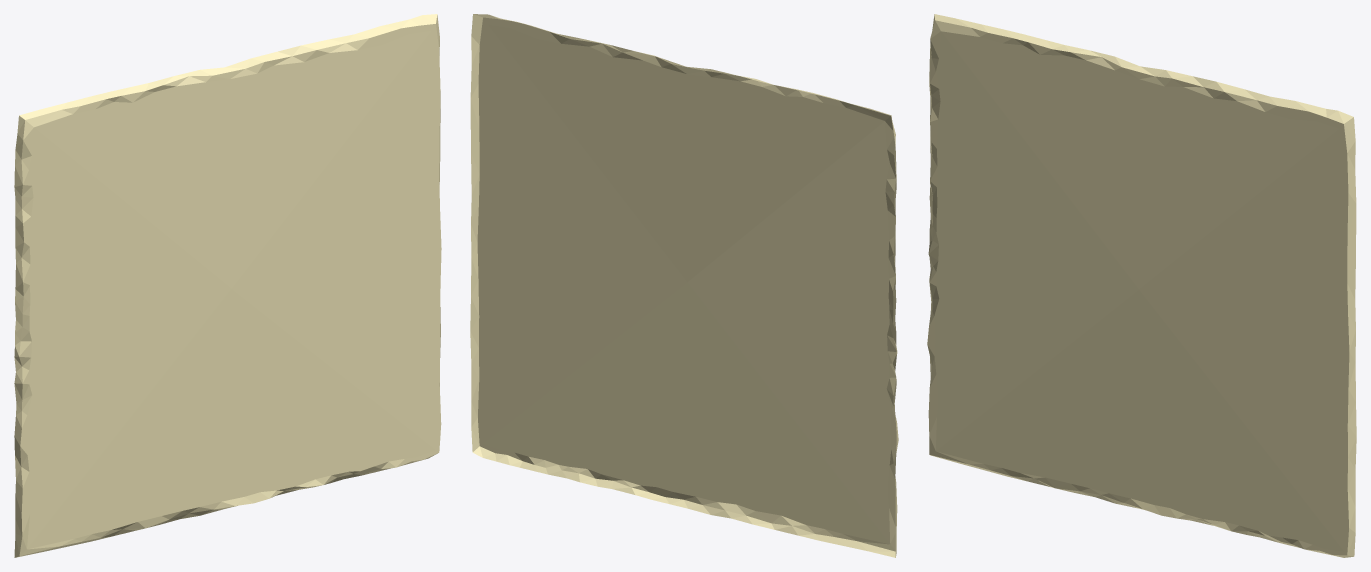
3 renders of one model, left to right at view 1: azimuth 30°, elevation 25°; view 2: azimuth 150°, elevation 25°; view 3: azimuth 330°, elevation 25°, orthographic.
Parts seen in each view (by area): view 1: Cube; view 2: Cube; view 3: Cube.
Part boxes in pixels (x1,y1,x2,y2): Cube: (14,14,441,557); Cube: (470,14,898,557); Cube: (927,14,1356,557).
Size of the model in its own units: 2 by 2 by 0.0357.
